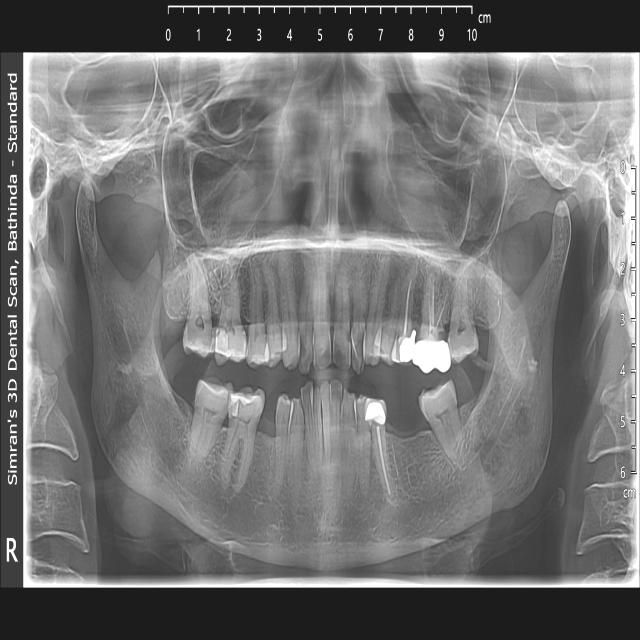Caries: (332, 328, 351, 367), (301, 332, 313, 368)
Crown: (398, 331, 453, 376), (366, 401, 386, 427)
Filling: (229, 388, 264, 427), (217, 323, 245, 365)
Missing teeth: (388, 409, 432, 476), (255, 400, 276, 449)
Root Canal Treatment: (415, 270, 451, 375), (368, 397, 395, 500), (392, 254, 416, 359)
